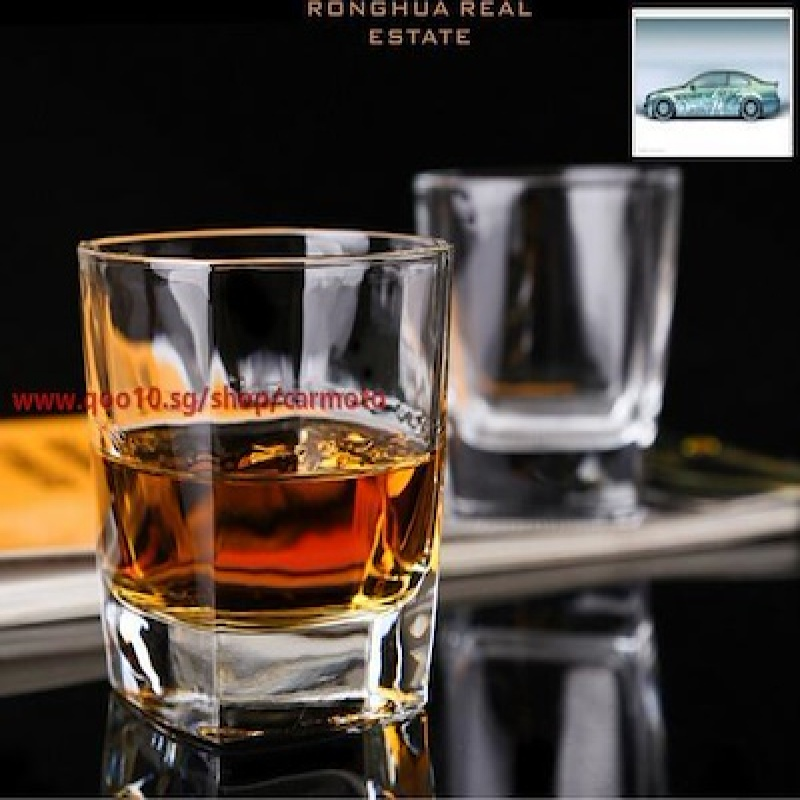whiskey: (73, 231, 458, 732)
